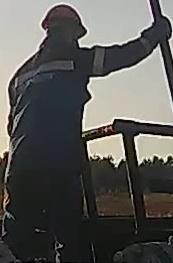gloves: (140, 15, 172, 49)
helmet: (40, 3, 88, 39)
vest: (5, 44, 108, 183)
